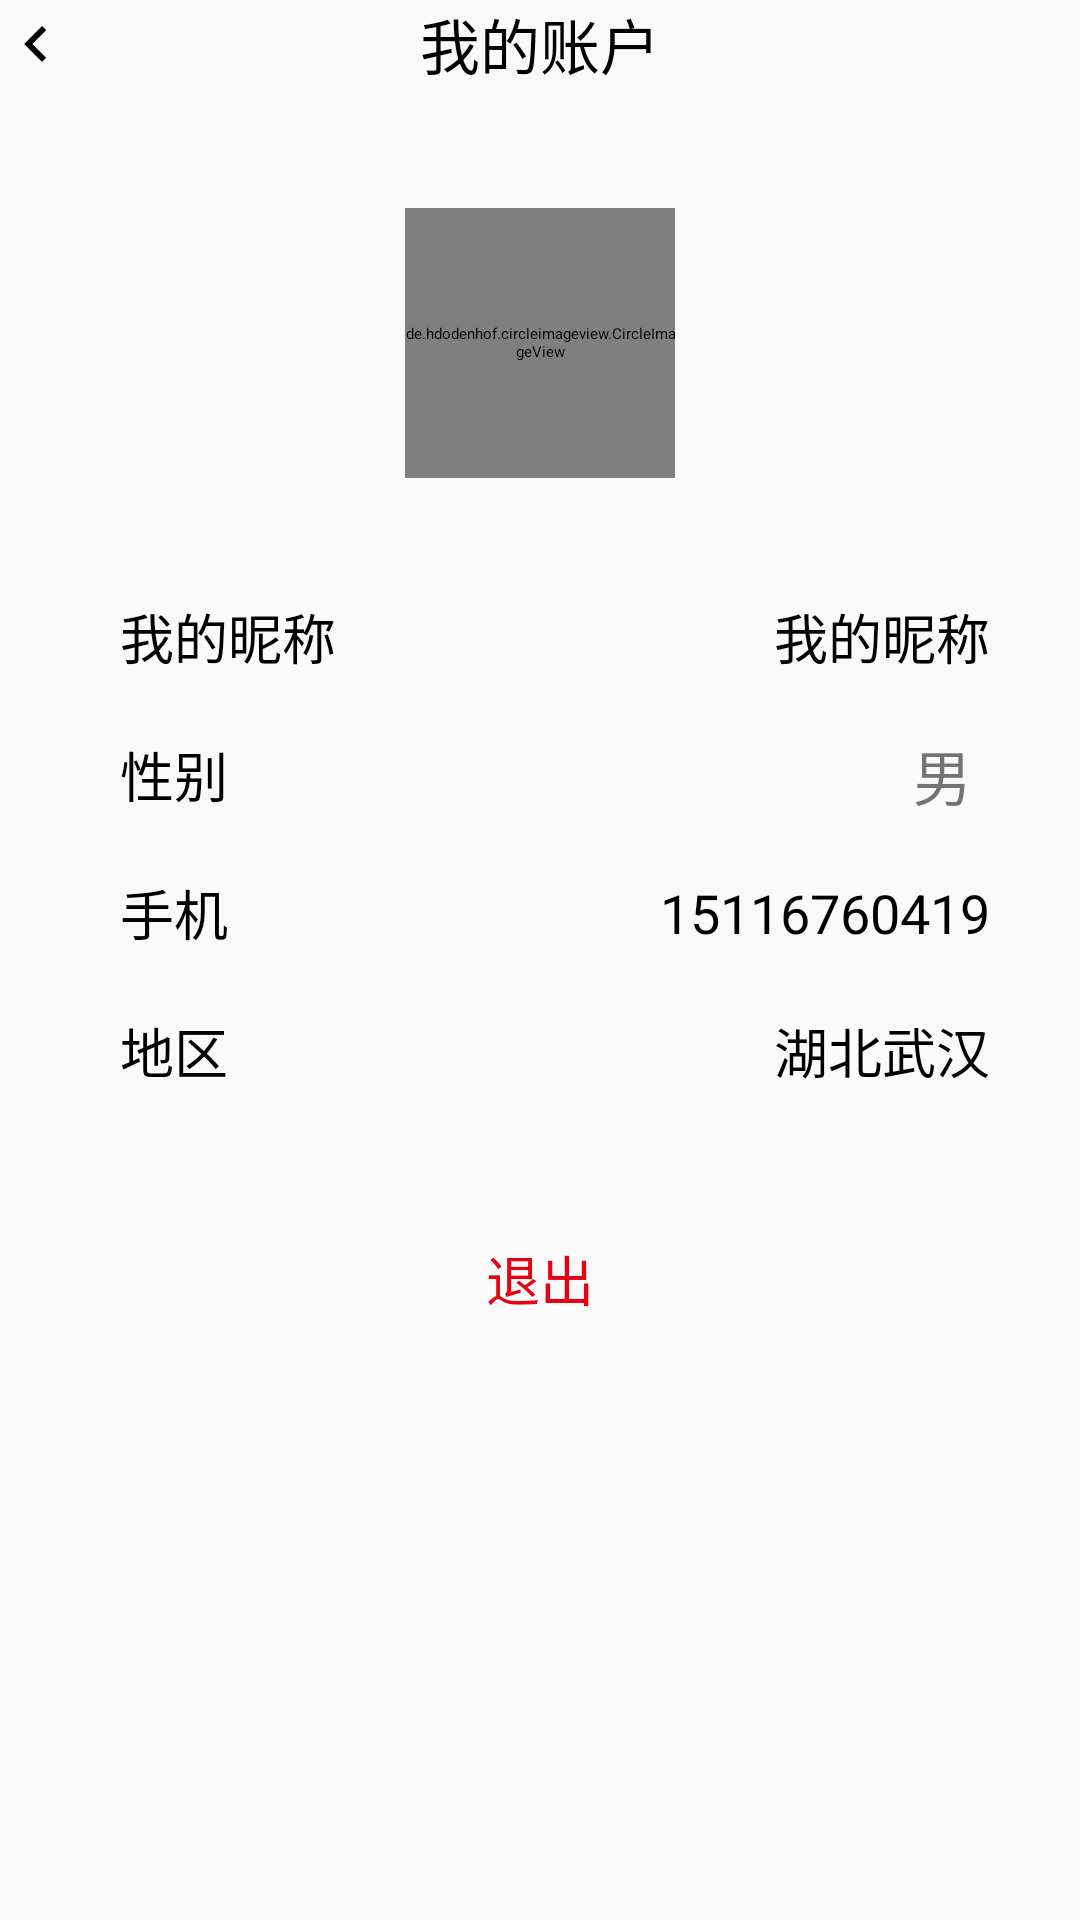

Screen size 1080 x 1920. Icon name, then its box in pixels as region(x1, y1, x2, y2):
arrow left: region(24, 26, 46, 62)
